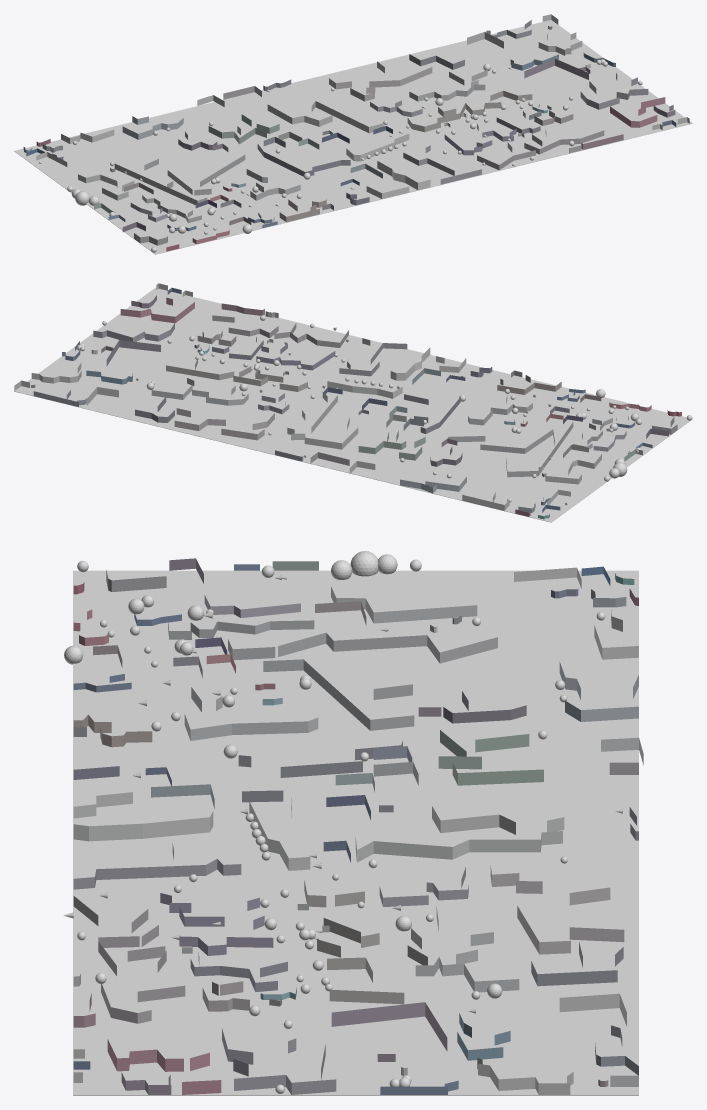
3 views of the same model, one above another, from view 1: azimuth 30°, elevation 25°; view 2: azimuth 150°, elevation 25°; view 3: azimuth 270°, elevation 25° (orthographic). The views are drawn at different scales.
Visible parts, largest first — view 1: Ground_Base, BLD-062, BLD-052, BLD-067, BLD-018, BLD-075, BLD-064, BLD-066, BLD-027, BLD-043, BLD-024, BLD-050 (+8 smaller); view 2: Ground_Base, BLD-052, BLD-062, BLD-018, BLD-075, BLD-067, BLD-064, BLD-066, BLD-024, BLD-027, BLD-043, BLD-038 (+7 smaller); view 3: Ground_Base, BLD-062, BLD-067, BLD-052, BLD-018, BLD-066, BLD-075, BLD-022, BLD-030, BLD-043, BLD-064, BLD-027 (+17 smaller).
Part boxes in pixels (bbox=[...]): Ground_Base: bbox=[14, 20, 692, 254]; BLD-062: bbox=[114, 155, 245, 204]; BLD-052: bbox=[407, 90, 532, 132]; BLD-067: bbox=[267, 101, 383, 133]; BLD-018: bbox=[477, 129, 604, 170]; BLD-075: bbox=[329, 61, 432, 101]; BLD-064: bbox=[409, 70, 487, 101]; BLD-066: bbox=[208, 114, 279, 144]; BLD-027: bbox=[403, 145, 481, 184]; BLD-043: bbox=[580, 73, 648, 109]; BLD-024: bbox=[610, 97, 665, 127]; BLD-050: bbox=[257, 144, 350, 176]; Ground_Base: bbox=[14, 287, 692, 522]; BLD-052: bbox=[166, 358, 307, 391]; BLD-062: bbox=[448, 422, 573, 477]; BLD-018: bbox=[212, 315, 348, 347]; BLD-075: bbox=[174, 408, 274, 440]; BLD-067: bbox=[287, 392, 358, 449]; BLD-064: bbox=[151, 378, 248, 405]; BLD-066: bbox=[358, 430, 425, 460]; BLD-024: bbox=[120, 297, 194, 323]; BLD-027: bbox=[339, 338, 407, 376]; BLD-043: bbox=[93, 323, 174, 341]; BLD-038: bbox=[327, 381, 402, 398]; Ground_Base: bbox=[73, 570, 638, 1095]; BLD-062: bbox=[228, 632, 497, 730]; BLD-067: bbox=[355, 806, 564, 862]; BLD-052: bbox=[304, 880, 404, 1004]; BLD-018: bbox=[73, 896, 185, 1023]; BLD-066: bbox=[438, 730, 543, 785]; BLD-075: bbox=[490, 865, 624, 954]; BLD-022: bbox=[73, 811, 213, 841]; BLD-030: bbox=[160, 893, 273, 955]; BLD-043: bbox=[222, 1028, 336, 1094]; BLD-064: bbox=[407, 907, 519, 992]; BLD-027: bbox=[73, 843, 241, 889].
Size of the model in its own units: 753 by 17.6 by 347.
